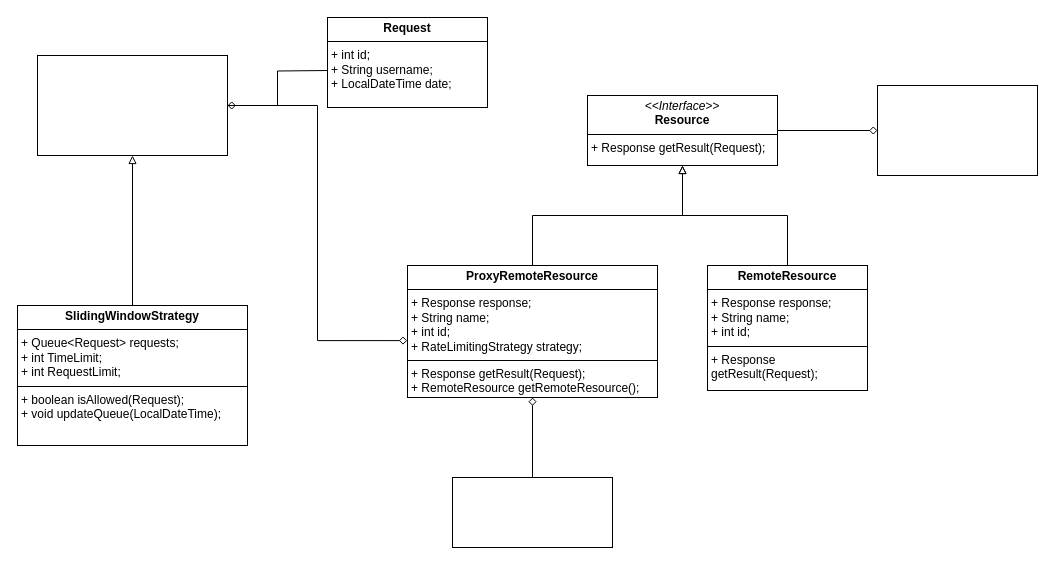
Some shapes in this 1055 by 565 pixel diagram are drawn without their labels. The shapes that lost their labels are listed below. From the top down, each one's centre as x and y in pixels, then its label:
the point at 132,105: <<Interface>> RateLimitingStrategy + boolean isAllowed(Request):
the point at 957,130: Server + Resource resource; + Response getIplTeam(Request);
the point at 532,512: Response + int id; + String result;
